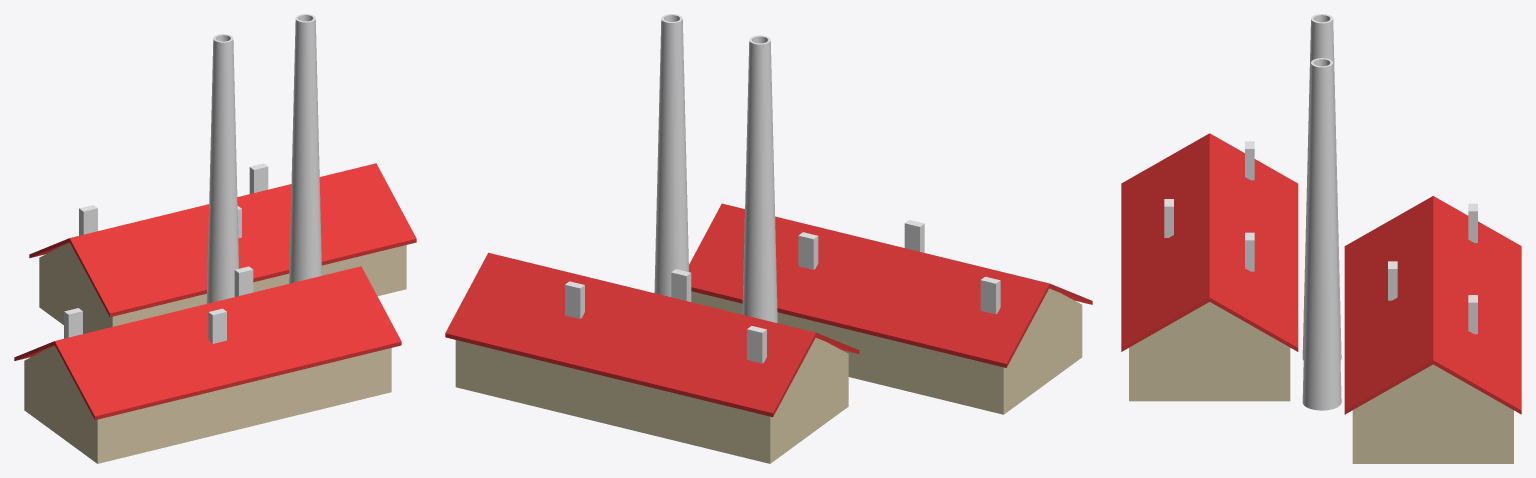
3 views of the same model, side by side, from view 1: azimuth 30°, elevation 25°; view 2: azimuth 150°, elevation 25°; view 3: azimuth 270°, elevation 25° (orthographic). The views are drawn at different scales.
Visible parts, largest first — view 1: factory; view 2: factory; view 3: factory.
Boxes of the visible parts, bbox=[...] form: factory: bbox=[14, 14, 416, 463]; factory: bbox=[445, 14, 1092, 463]; factory: bbox=[1121, 14, 1521, 463].
Bounding box in the file's own units: 49.91 × 34.82 × 37.23.
